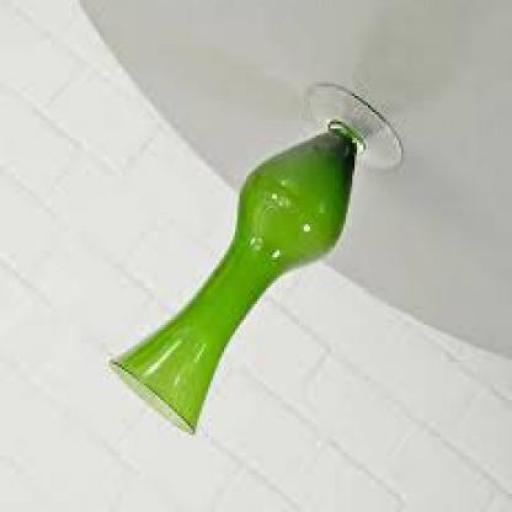glass: (112, 86, 406, 440)
